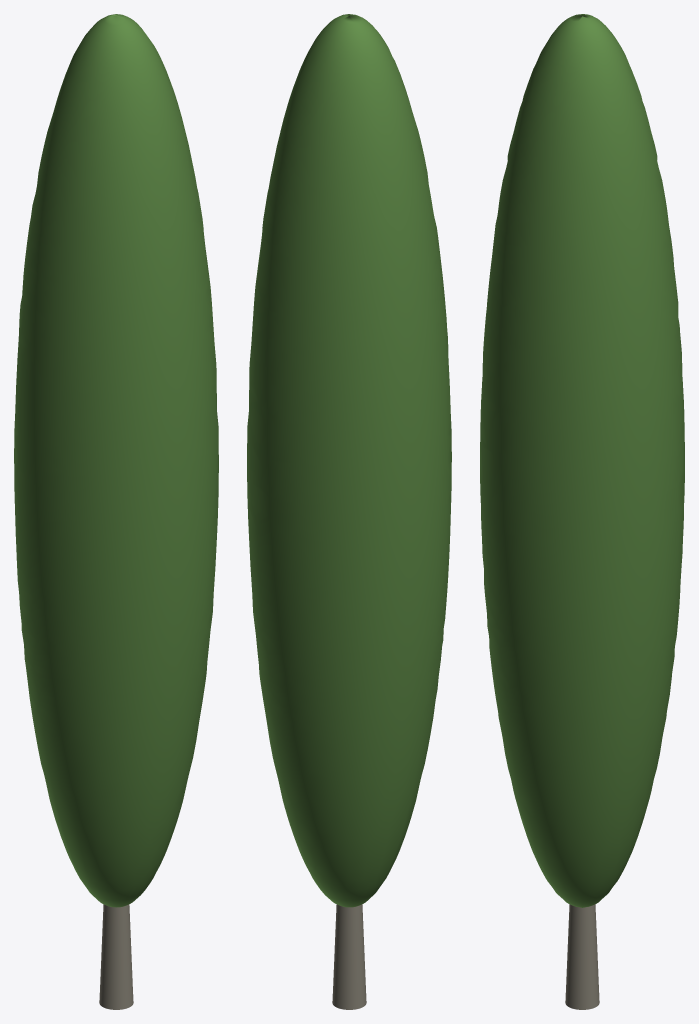
The model's file is e03-lombardy-poplar.glb.
3 renders of one model, left to right at view 1: azimuth 30°, elevation 25°; view 2: azimuth 150°, elevation 25°; view 3: azimuth 270°, elevation 25°, orthographic.
Visible parts, largest first — view 1: part1, part0; view 2: part1, part0; view 3: part1, part0.
Boxes of the visible parts, left/top/right/bottom form: part1: left=14, top=14, right=218, bottom=907; part0: left=99, top=904, right=133, bottom=1009; part1: left=247, top=14, right=451, bottom=907; part0: left=332, top=904, right=366, bottom=1009; part1: left=480, top=14, right=684, bottom=907; part0: left=565, top=904, right=599, bottom=1009.
Size of the model in its own units: 4780 by 25500 by 4799.
